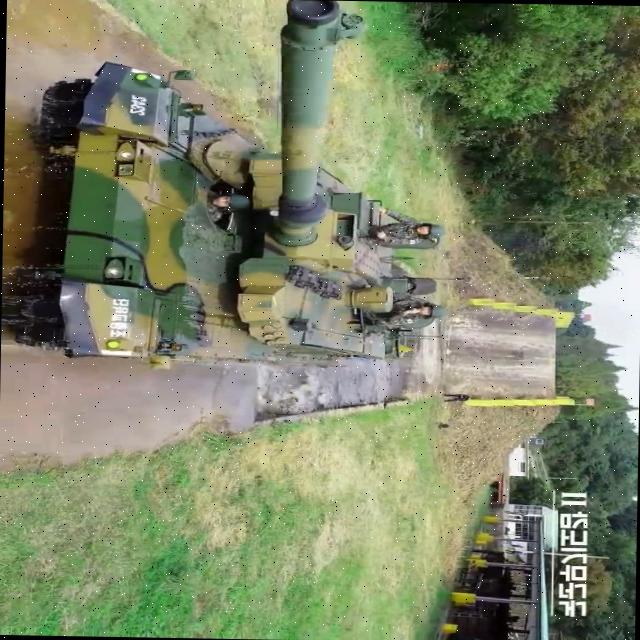korea tank: (0, 0, 477, 376)
